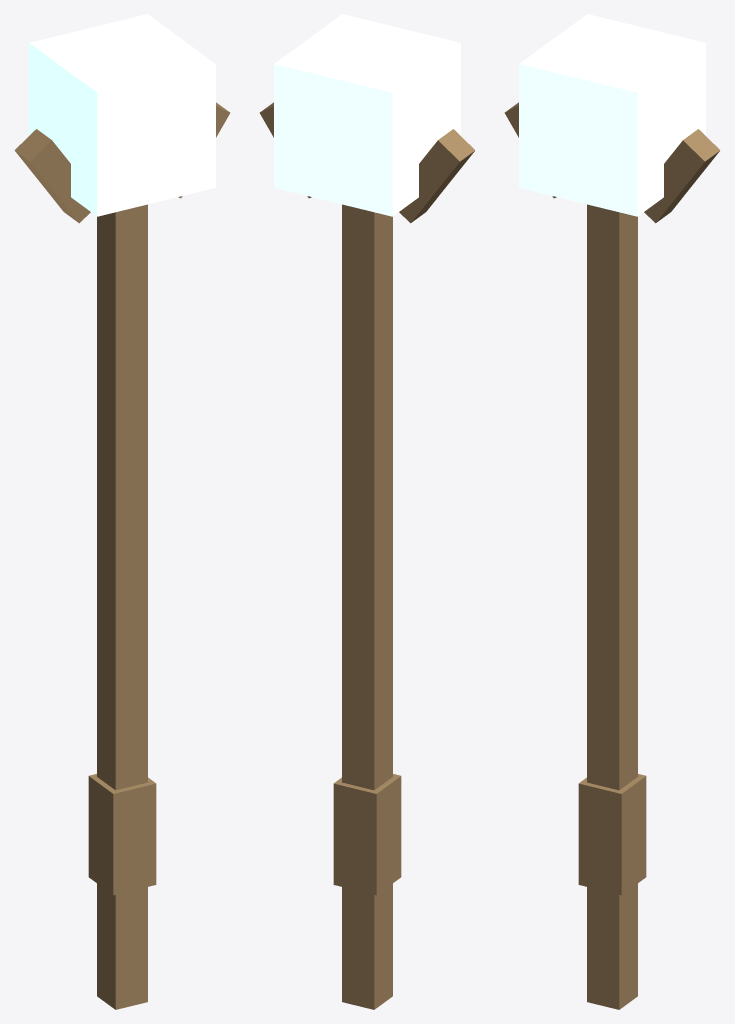
The model's file is staff.glb.
The picture shows the model from 3 angles, left to right: view 1: azimuth 30°, elevation 25°; view 2: azimuth 150°, elevation 25°; view 3: azimuth 330°, elevation 25°; orthographic projection.
Visible parts, largest first — view 1: shaft, orb, grip, claw1; view 2: shaft, orb, grip, claw1; view 3: shaft, orb, grip, claw0.
Part boxes in pixels (bbox=[...]): shaft: bbox=[97, 204, 147, 1009]; orb: bbox=[29, 14, 215, 216]; grip: bbox=[88, 774, 156, 895]; claw1: bbox=[14, 129, 90, 223]; shaft: bbox=[342, 204, 392, 1009]; orb: bbox=[274, 14, 460, 216]; grip: bbox=[333, 774, 401, 895]; claw1: bbox=[399, 129, 475, 223]; shaft: bbox=[587, 204, 637, 1009]; orb: bbox=[519, 14, 705, 216]; grip: bbox=[578, 774, 646, 895]; claw0: bbox=[644, 129, 720, 223].
Size of the model in its own units: 0.3727 by 1.68 by 0.22.
